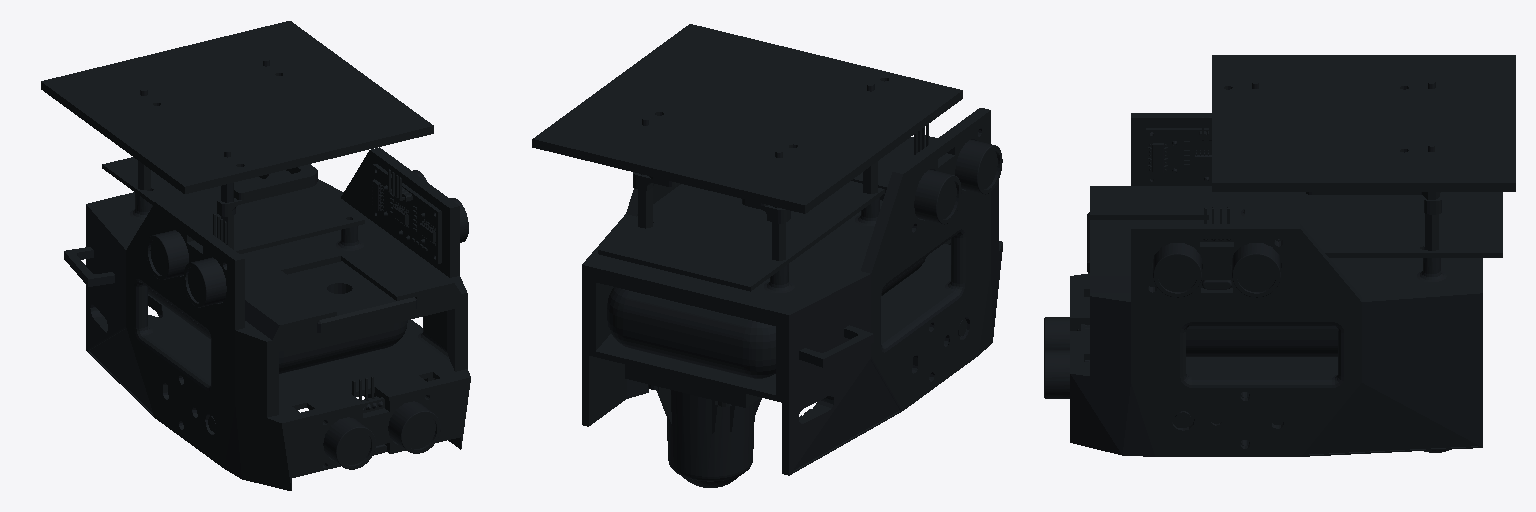
robot.urdf — dofbot_arm:
<?xml version="1.0" encoding="UTF-8" ?>
<robot name="dofbot_arm">
    <material name="eerie_black">
        <color rgba="0.1294117647058824 0.1450980392156863 0.1607843137254902 1.0"/>
    </material>
    <material name="pigment_green">
        <color rgba="0 0.627450980392157 0.235294117647059 1.0"/>
    </material>
    <material name="oxford_blue">
        <color rgba="0.1058823529411765 0.1490196078431373 0.2196078431372549 1.0"/>
    </material>
    <material name="yinmn_blue">
        <color rgba="0.2549019607843137 0.3529411764705882 0.4666666666666667 1.0"/>
    </material>
    <material name="silver_lake_blue">
        <color rgba="0.4666666666666667 0.5529411764705882 0.6627450980392157 1.0"/>
    </material>
    <!--Dofbot Arm Base Link-->
    <link name="base_link">
        <visual>
            <origin xyz="0.0 0.0 0.0" rpy="0.0 0.0 0.0"/>
            <geometry>
                <mesh filename="package://dofbot_description/meshes/dofbot/visual/base_link.STL"/>
            </geometry>
            <material name="eerie_black"/>
        </visual>
        <collision>
            <origin xyz="0.0 0.0 0.0" rpy="0.0 0.0 0.0"/>
            <geometry>
                <mesh filename="package://dofbot_description/meshes/dofbot/visual/base_link.STL"/>
            </geometry>
        </collision>
        <inertial>
            <origin xyz="-0.0304416859098744 4.23384368655101E-05 0.0448234503408059" rpy="0 0 0"/>
            <mass value="1.0754239466482"/>
            <inertia
                    ixx="0.0208831789264125"
                    ixy="2.4618093127858E-06"
                    ixz="0.00616019290028669"
                    iyy="0.0265621377486244"
                    iyz="-1.10079499865282E-06"
                    izz="0.0129535610833954"/>
        </inertial>
    </link>
    <!-- Dofbot Arm Link 01 -->
    <link name="arm_link_01">
        <inertial>
            <origin xyz="1.99179507982521E-05 -5.98354652829568E-05 0.0114289358828097" rpy="0 0 0" />
            <mass value="0.0279545499871709" />
            <inertia ixx="1.19144359314975E-05" ixy="-9.26068510046816E-09" ixz="3.16060516198683E-09" iyy="1.05642517915377E-05" iyz="2.69674403668579E-08" izz="1.49639510661413E-05" />
        </inertial>
        <visual>
            <origin xyz="0 0 0" rpy="0 0 0" />
            <geometry>
                <mesh filename="package://dofbot_description/meshes/dofbot/visual/arm_link1.STL"/>
            </geometry>
            <material name="pigment_green"/>
        </visual>
        <collision>
            <origin xyz="0 0 0" rpy="0 0 0" />
            <geometry>
                <mesh filename="package://dofbot_description/meshes/dofbot/visual/arm_link1.STL"/>
            </geometry>
        </collision>
    </link>
    <!-- Dofbot Arm Joint 01 (base_link -> arm_link_01) -->
    <joint name="arm_joint_01" type="revolute">
        <origin xyz="0 0 0.06605" rpy="-0.010805 0 1.5" />
        <parent link="base_link" />
        <child link="arm_link_01" />
        <axis xyz="0 0 1" />
        <limit effort="30" velocity="1.0" lower="-1.5708" upper="1.5708" />
    </joint>
    <!-- Dofbot Arm Link 02 -->
    <link name="arm_link_02">
        <inertial>
            <origin xyz="0.024903 -0.0022632 -0.00066663" rpy="0 0 0" />
            <mass value="0.031605" />
            <inertia ixx="5.8495E-06" ixy="-8.8092E-07" ixz="1.5336E-07" iyy="2.667E-05" iyz="7.1365E-09" izz="2.4695E-05" />
        </inertial>
        <visual>
            <origin xyz="0 0 0" rpy="0 0 0" />
            <geometry>
                <mesh filename="package://dofbot_description/meshes/dofbot/visual/arm_link2.STL" />
            </geometry>
            <material name="pigment_green"/>
        </visual>
        <collision>
            <origin xyz="0 0 0" rpy="0 0 0" />
            <geometry>
                <mesh filename="package://dofbot_description/meshes/dofbot/visual/arm_link2.STL" />
            </geometry>
        </collision>
    </link>
    <!-- Dofbot Arm Joint 02 (arm_link_01 -> arm_link_02) -->
    <joint name="arm_joint_02" type="revolute">
        <origin xyz="0 0 0.0405" rpy="-1.5708 0 0" />
        <parent link="arm_link_01" />
        <child link="arm_link_02" />
        <axis xyz="0 0 -1" />
        <limit lower="-1.5708" upper="1.5708" effort="100" velocity="1" />
    </joint>
    <!-- Dofbot Arm Link 03 -->
    <link name="arm_link_03">
        <inertial>
            <origin xyz="0.024903 -0.0022634 -0.0013962" rpy="0 0 0" />
            <mass value="0.031605" />
            <inertia ixx="5.8492E-06" ixy="-8.8063E-07" ixz="1.4331E-07" iyy="2.667E-05" iyz="8.9675E-09" izz="2.4695E-05" />
        </inertial>
        <visual>
            <origin xyz="0 0 0" rpy="0 0 0" />
            <geometry>
                <mesh filename="package://dofbot_description/meshes/dofbot/visual/arm_link3.STL" />
            </geometry>
            <material name="pigment_green"/>
        </visual>
        <collision>
            <origin xyz="0 0 0" rpy="0 0 0" />
            <geometry>
                <mesh filename="package://dofbot_description/meshes/dofbot/visual/arm_link3.STL" />
            </geometry>
        </collision>
    </link>
    <!-- Dofbot Arm Joint 03 (arm_link_02 -> arm_link_03) -->
    <joint name="arm_joint_03" type="revolute">
        <origin xyz="0 -0.0829 0" rpy="0 0 0" />
        <parent link="arm_link_02" />
        <child link="arm_link_03" />
        <axis xyz="0 0 -1" />
        <limit lower="-1.5708" upper="1.5708" effort="100" velocity="1" />
    </joint>
    <!-- Dofbot Arm Link 04 -->
    <link name="arm_link_04">
        <inertial>
            <origin xyz="0.036246 0.0023413 -0.0019655" rpy="0 0 0" />
            <mass value="0.049766" />
            <inertia ixx="1.1857E-05" ixy="-6.5371E-06" ixz="-4.1044E-08" iyy="3.6323E-05" iyz="-1.2132E-07" izz="4.1769E-05" />
        </inertial>
        <visual>
            <origin xyz="0 0 0" rpy="0 0 0" />
            <geometry>
                <mesh filename="package://dofbot_description/meshes/dofbot/visual/arm_link4.STL" />
            </geometry>
            <material name="pigment_green"/>
        </visual>
        <collision>
            <origin xyz="0 0 0" rpy="0 0 0" />
            <geometry>
                <mesh filename="package://dofbot_description/meshes/dofbot/visual/arm_link4.STL" />
            </geometry>
        </collision>
    </link>
    <!-- Dofbot Arm Joint 04 (arm_link_03 -> arm_link_04) -->
    <joint name="arm_joint_04" type="revolute">
        <origin xyz="0 -0.0829 0" rpy="0 0 0" />
        <parent link="arm_link_03" />
        <child link="arm_link_04" />
        <axis xyz="0 0 -1" />
        <limit lower="-1.5708" upper="1.5708" effort="100" velocity="1" />
    </joint>
    <!-- Dofbot Arm Link 05 -->
    <link name="arm_link_05">
        <inertial>
            <origin xyz="0.0023228 0.018169 0.028684" rpy="0 0 0" />
            <mass value="0.04069" />
            <inertia ixx="1.0627E-05" ixy="-3.0402E-07" ixz="-1.9524E-07" iyy="9.6306E-06" iyz="-1.3265E-06" izz="1.3298E-05" />
        </inertial>
        <visual>
            <origin xyz="0 0 0" rpy="0 0 0" />
            <geometry>
                <mesh filename="package://dofbot_description/meshes/dofbot/visual/arm_link5.STL" />
            </geometry>
            <material name="eerie_black"/>
        </visual>
        <collision>
            <origin xyz="0 0 0" rpy="0 0 0" />
            <geometry>
                <mesh filename="package://dofbot_description/meshes/dofbot/visual/arm_link5.STL" />
            </geometry>
        </collision>
    </link>
    <!-- Dofbot Arm Joint 05 (arm_link_04 -> arm_link_05) -->
    <joint name="arm_joint_05" type="revolute">
        <origin xyz="-0.00215 -0.17455 0" rpy="1.5708 0 0" />
        <parent link="arm_link_04" />
        <child link="arm_link_05" />
        <axis xyz="0 0 1" />
        <limit lower="-1.5708" upper="3.14159" effort="100" velocity="1" />
    </joint>
    <!-- Dofbot Arm Gripper Assembly-->
    <!-- Dofbot Arm Gripper Right Grip finger link 01 -->
    <link name="rgrip_finger01">
        <inertial>
            <origin xyz="0.00653227489887718 0.000416767821288678 0.000980984132845697" rpy="0 0 0" />
            <mass value="0.00117883201961805" />
            <inertia ixx="3.30415008842026E-08" ixy="8.05114594599862E-09" ixz="-1.46441757999184E-10" iyy="1.67254031134004E-07" iyz="-9.31932225400159E-12" izz="1.99277285249309E-07" />
        </inertial>
        <visual>
            <origin xyz="0 0 0" rpy="0 0 0" />
            <geometry>
                <mesh filename="package://dofbot_description/meshes/dofbot/visual/rgrip_finger1.STL" />
            </geometry>
            <material name="yinmn_blue"/>
        </visual>
        <collision>
            <origin xyz="0 0 0" rpy="0 0 0" />
            <geometry>
                <mesh filename="package://dofbot_description/meshes/dofbot/visual/rgrip_finger1.STL" />
            </geometry>
        </collision>
    </link>
    <!-- Dofbot Arm Gripper Gripper Joint 01 (arm_link_05 -> rgrip_finger01) -->
    <!-- 'gripper_joint' is a mandatory MoveIt's name -->
    <joint name="grip_joint" type="revolute">
        <origin xyz="-0.0035 -0.012625 -0.0685" rpy="0 -1.5708 0" />
        <parent link="arm_link_05" />
        <child link="rgrip_finger01" />
        <axis xyz="0 0 1" />
        <limit lower="-1.54" upper="0" effort="100" velocity="1" />
    </joint>
    <!-- Dofbot Arm Gripper Right Grip finger link 02 -->
    <link name="rgrip_finger02">
        <inertial>
            <origin xyz="0.021158 0.0063295 -0.0030251" rpy="0 0 0" />
            <mass value="0.0024469" />
            <inertia ixx="5.188E-08" ixy="-1.2303E-07" ixz="-1.2978E-09" iyy="6.3204E-07" iyz="-3.8824E-10" izz="6.6364E-07" />
        </inertial>
        <visual>
            <origin xyz="0 0 0" rpy="0 0 0" />
            <geometry>
                <mesh filename="package://dofbot_description/meshes/dofbot/visual/rgrip_finger2.STL" />
            </geometry>
            <material name="oxford_blue"/>
        </visual>
        <collision>
            <origin xyz="0 0 0" rpy="0 0 0" />
            <geometry>
                <mesh filename="package://dofbot_description/meshes/dofbot/visual/rgrip_finger2.STL" />
            </geometry>
        </collision>
    </link>
    <!-- Dofbot Arm Gripper Right finger Joint 01 (rgrip_finger01 -> rgrip_finger02) -->
    <!-- 'mimic_joint' -->
    <joint name="rfinger_joint_01" type="continuous">
        <origin xyz="0.03 -0.00075429 0" rpy="0 0 0" />
        <parent link="rgrip_finger01" />
        <child link="rgrip_finger02" />
        <axis xyz="0 0 1" />
        <mimic joint="grip_joint" multiplier="-1" />
    </joint>
    <!-- Dofbot Arm Gripper Right Grip finger link 03 -->
    <link name="rgrip_finger03">
        <inertial>
            <origin xyz="0.014355 1.1499E-05 -0.0033992" rpy="0 0 0" />
            <mass value="0.00087627" />
            <inertia ixx="2.0534E-08" ixy="-1.0235E-10" ixz="1.074E-09" iyy="1.4825E-07" iyz="8.7073E-13" izz="1.3089E-07" />
        </inertial>
        <visual>
            <origin xyz="0 0 0" rpy="0 0 0" />
            <geometry>
                <mesh filename="package://dofbot_description/meshes/dofbot/visual/rgrip_finger3.STL" />
            </geometry>
            <material name="silver_lake_blue"/>
        </visual>
        <collision>
            <origin xyz="0 0 0" rpy="0 0 0" />
            <geometry>
                <mesh filename="package://dofbot_description/meshes/dofbot/visual/rgrip_finger3.STL" />
            </geometry>
        </collision>
    </link>
    <!-- Dofbot Arm Gripper Right finger Joint 02 (arm_link_05 -> rgrip_finger03) -->
    <!-- 'mimic_joint' -->
    <joint name="rfinger_joint_02" type="continuous">
        <origin xyz="-0.0035 -0.0045 -0.0505" rpy="0 -1.5708 0" />
        <parent link="arm_link_05" />
        <child link="rgrip_finger03" />
        <axis xyz="0 0 1" />
        <mimic joint="grip_joint" multiplier="1" />
    </joint>
    <!-- Dofbot Arm Gripper Left Grip finger link 01 -->
    <link name="lgrip_finger01">
        <inertial>
            <origin xyz="0.00628617364795481 -0.000318530407893543 0.00100000338924466" rpy="0 0 0" />
            <mass value="0.00121010771282268" />
            <inertia ixx="3.18226609060835E-08" ixy="-8.06236004452728E-09" ixz="3.99064856025629E-14" iyy="1.69267681405915E-07" iyz="1.87039773440675E-14" izz="2.00283878176223E-07" />
        </inertial>
        <visual>
            <origin xyz="0 0 0" rpy="0 0 0" />
            <geometry>
                <mesh filename="package://dofbot_description/meshes/dofbot/visual/lgrip_finger1.STL" />
            </geometry>
            <material name="yinmn_blue"/>
        </visual>
        <collision>
            <origin xyz="0 0 0" rpy="0 0 0" />
            <geometry>
                <mesh filename="package://dofbot_description/meshes/dofbot/visual/lgrip_finger1.STL" />
            </geometry>
        </collision>
    </link>
    <!-- Dofbot Arm Gripper Left finger grip joint 01 (arm_link_05 -> lgrip_finger01) -->
    <!-- 'mimic_joint' -->
    <joint name="lfinger_grip_joint_01" type="continuous">
        <origin xyz="-0.0035 0.012375 -0.0685" rpy="0 -1.5708 0" />
        <parent link="arm_link_05" />
        <child link="lgrip_finger01" />
        <axis xyz="0 0 1" />
        <mimic joint="grip_joint" multiplier="-1" />
    </joint>
    <!-- Dofbot Arm Gripper Left Grip finger link 02 -->
    <link name="lgrip_finger02">
        <inertial>
            <origin xyz="0.021159 -0.0063248 -0.0030251" rpy="0 0 0" />
            <mass value="0.0024469" />
            <inertia ixx="5.1826E-08" ixy="1.229E-07" ixz="-1.2979E-09" iyy="6.321E-07" iyz="3.8796E-10" izz="6.6364E-07" />
        </inertial>
        <visual>
            <origin xyz="0 0 0" rpy="0 0 0" />
            <geometry>
                <mesh filename="package://dofbot_description/meshes/dofbot/visual/lgrip_finger2.STL" />
            </geometry>
            <material name="oxford_blue"/>
        </visual>
        <collision>
            <origin xyz="0 0 0" rpy="0 0 0" />
            <geometry>
                <mesh filename="package://dofbot_description/meshes/dofbot/visual/lgrip_finger2.STL" />
            </geometry>
        </collision>
    </link>
    <!-- Dofbot Arm Gripper Left finger grip joint 02 (lgrip_finger01 -> lgrip_finger02) -->
    <!-- 'mimic_joint' -->
    <joint name="lfinger_grip_joint_02" type="continuous">
        <origin xyz="0.03 0.00065104 0" rpy="0 0 0" />
        <parent link="lgrip_finger01" />
        <child link="lgrip_finger02" />
        <axis xyz="0 0 1" />
        <mimic joint="grip_joint" multiplier="1" />
    </joint>
    <!-- Dofbot Arm Gripper Left Grip finger link 03 -->
    <link name="lgrip_finger03">
        <inertial>
            <origin xyz="0.014354 -7.4795E-05 -0.0033992" rpy="0 0 0" />
            <mass value="0.00087627" />
            <inertia ixx="2.0537E-08" ixy="6.6549E-10" ixz="1.074E-09" iyy="1.4825E-07" iyz="-5.5867E-12" izz="1.3089E-07" />
        </inertial>
        <visual>
            <origin xyz="0 0 0" rpy="0 0 0" />
            <geometry>
                <mesh filename="package://dofbot_description/meshes/dofbot/visual/lgrip_finger3.STL" />
            </geometry>
            <material name="silver_lake_blue"/>
        </visual>
        <collision>
            <origin xyz="0 0 0" rpy="0 0 0" />
            <geometry>
                <mesh filename="package://dofbot_description/meshes/dofbot/visual/lgrip_finger3.STL" />
            </geometry>
        </collision>
    </link>
    <!-- Dofbot Arm Gripper Left finger grip joint 03 (arm_link_05 -> lgrip_finger03) -->
    <!-- 'mimic_joint' -->
    <joint name="lfinger_grip_joint_03" type="continuous">
        <origin xyz="-0.0035 0.0045 -0.0505" rpy="0 -1.5708 0" />
        <parent link="arm_link_05" />
        <child link="lgrip_finger03" />
        <axis xyz="0 0 1" />
        <mimic joint="grip_joint" multiplier="-1" />
    </joint>
    <!-- Mono - camera sensor -->
    <link name="mono_link">
        <inertial>
            <origin xyz="5.8458E-05 0.0095015 -0.0014824" rpy="0 0 0"/>
            <mass value="0.0097589"/>
            <inertia ixx="3.3488E-06" ixy="1.3667E-08" ixz="6.4235E-09" iyy="1.8662E-06" iyz="-1.0265E-07"
                     izz="2.5696E-06"/>
        </inertial>
        <visual>
            <origin xyz="0 0 0" rpy="0 0 0"/>
            <geometry>
                <mesh filename="package://dofbot_description/meshes/sensor/visual/mono_link.STL"/>
            </geometry>
            <material name="oxford_blue"/>
        </visual>
        <collision>
            <origin xyz="0 0 0" rpy="0 0 0"/>
            <geometry>
                <mesh filename="package://dofbot_description/meshes/sensor/visual/mono_link.STL"/>
            </geometry>
        </collision>
    </link>
    <joint name="mono_joint" type="fixed">
        <origin xyz="-0.0481 -0.05145 -0.0022" rpy="1.5708 0 0"/>
        <parent link="arm_link_04"/>
        <child link="mono_link"/>
    </joint>


</robot>

--- What the picture shows (computed from the rendered views, not written in the file) ---
Views: 3 orthographic renders of the robot side by side, from view 1: azimuth 30°, elevation 25°; view 2: azimuth 150°, elevation 25°; view 3: azimuth 270°, elevation 25°.
Model dofbot_arm with 13 links and 12 joints (6 revolute, 5 continuous, 1 fixed), rooted at base_link, posed all joints at 0.
Visible links, largest first — view 1: base_link; view 2: base_link; view 3: base_link.
Boxes of the visible links, box(x1,y1,x2,y2) form: base_link: box(41, 21, 470, 490); base_link: box(532, 24, 1002, 487); base_link: box(1044, 55, 1515, 456).
Size in the robot's own frame: 0.106 by 0.1551 by 0.122 metres.
Meshes: 13 distinct files referenced, 1 mesh visuals loaded (1 binary STL); not drawn: 12 (reference not matched to a file when rendering).